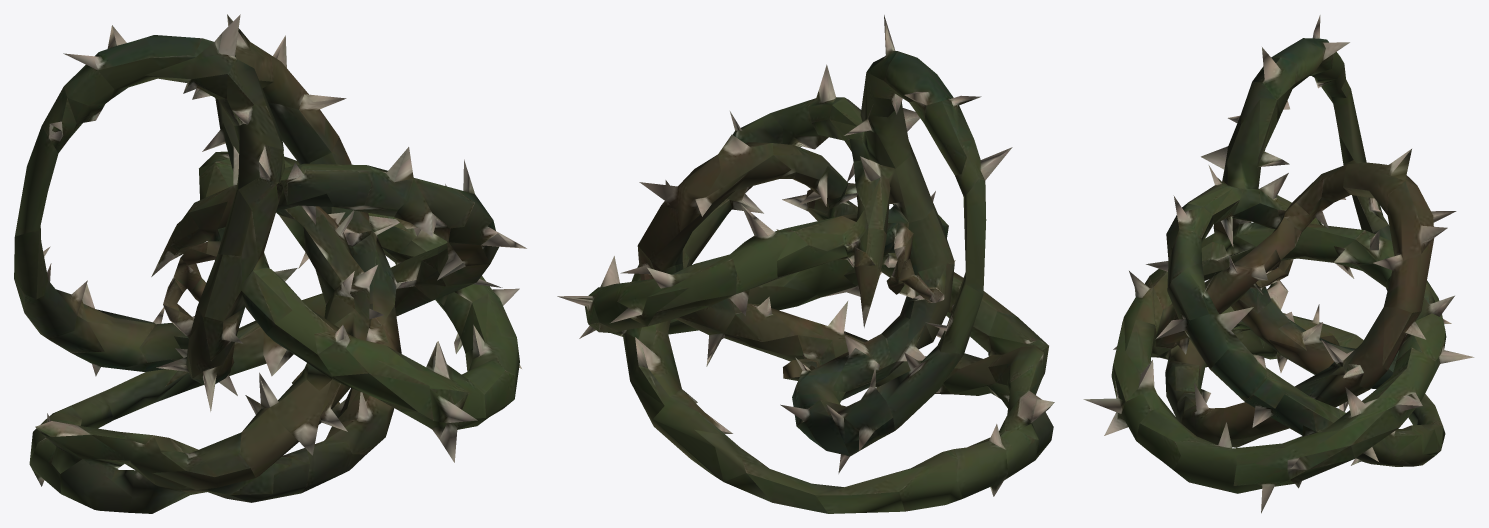
The model's file is thorns.glb.
The picture shows the model from 3 angles, left to right: view 1: azimuth 30°, elevation 25°; view 2: azimuth 150°, elevation 25°; view 3: azimuth 270°, elevation 25°; orthographic projection. The views are drawn at different scales.
Visible parts, largest first — view 1: meshy_thorns; view 2: meshy_thorns; view 3: meshy_thorns.
Boxes of the visible parts, x1,y1,x2,y2 form: meshy_thorns: (14,14,526,513); meshy_thorns: (557,15,1054,513); meshy_thorns: (1083,15,1474,513).
Size of the model in its own units: 1.9 by 1.7 by 1.56.
1 material, 1 textured.
